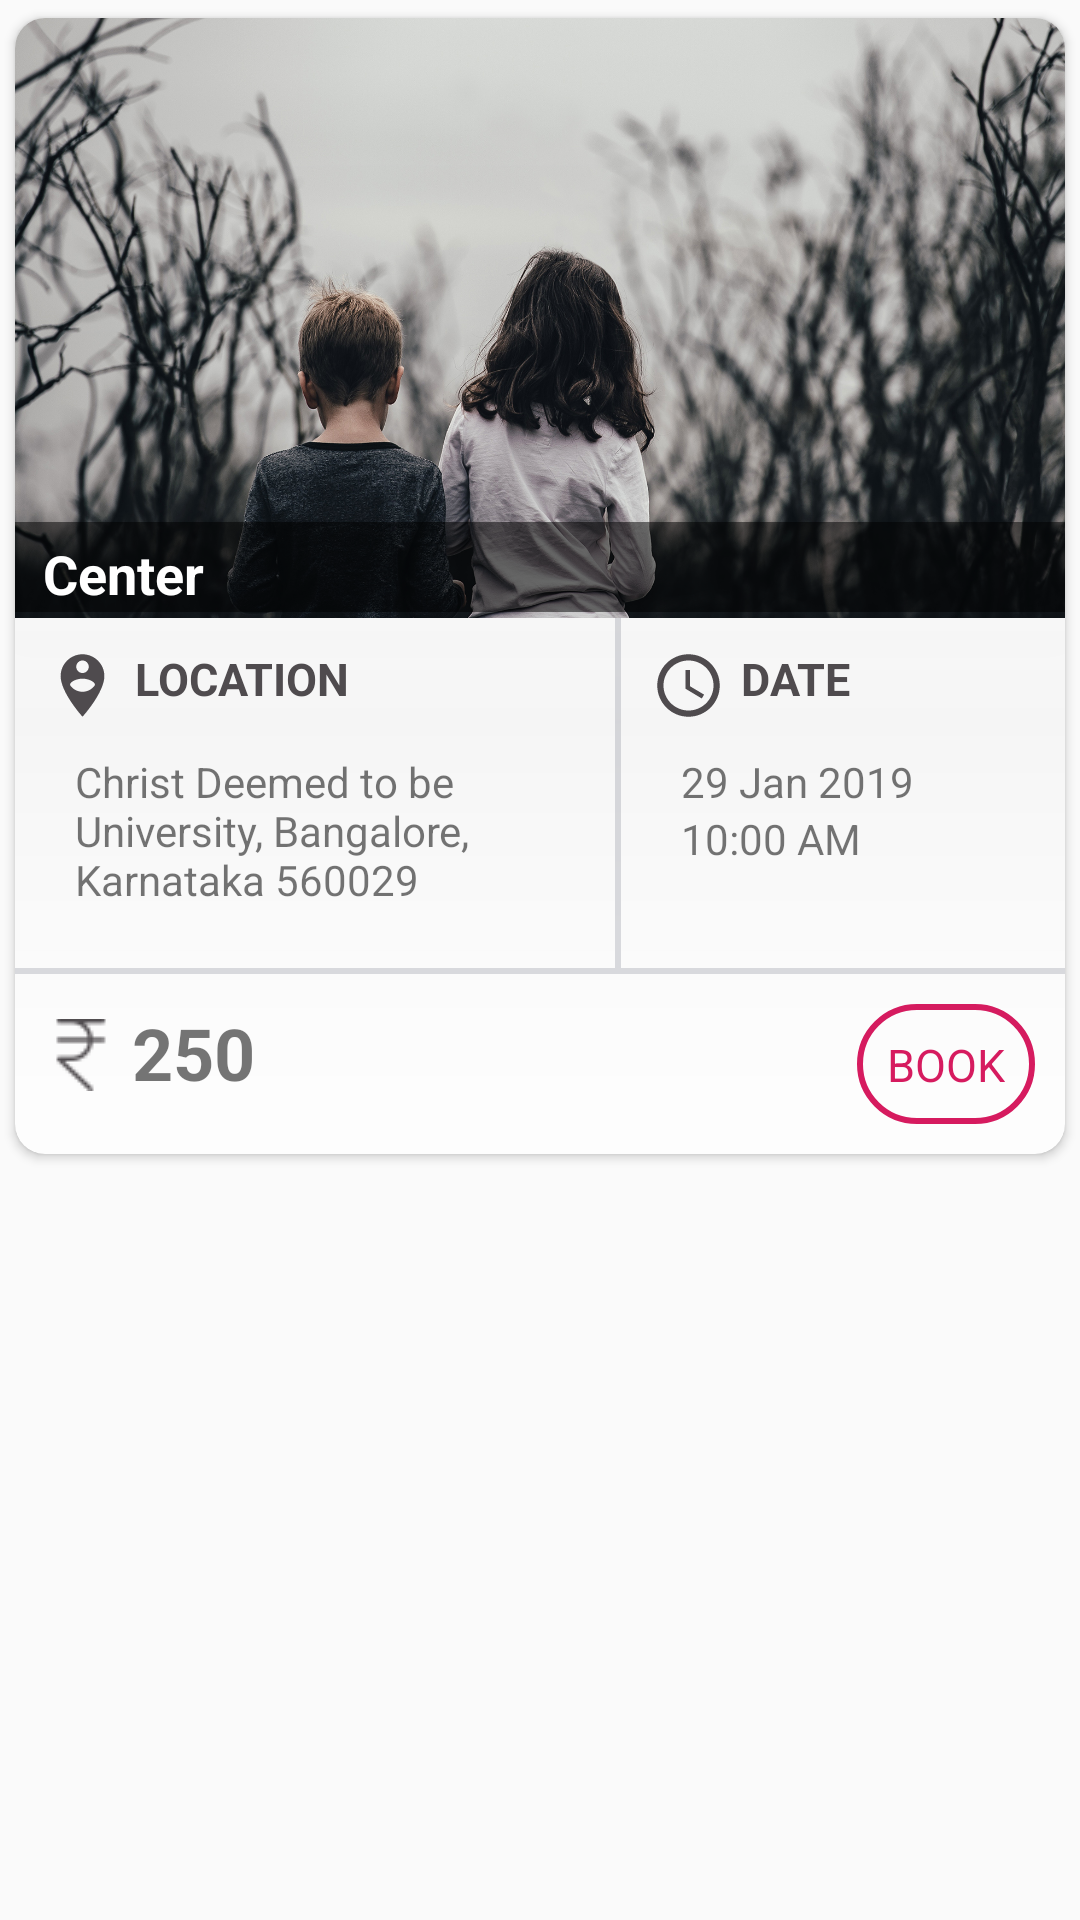

Icons on this 1080×1920 Android screen, each with its box as (x1, y1, x2, y2):
access time: (657, 654, 720, 717)
person pin circle: (60, 654, 105, 717)
rupee: (56, 1019, 106, 1091)
